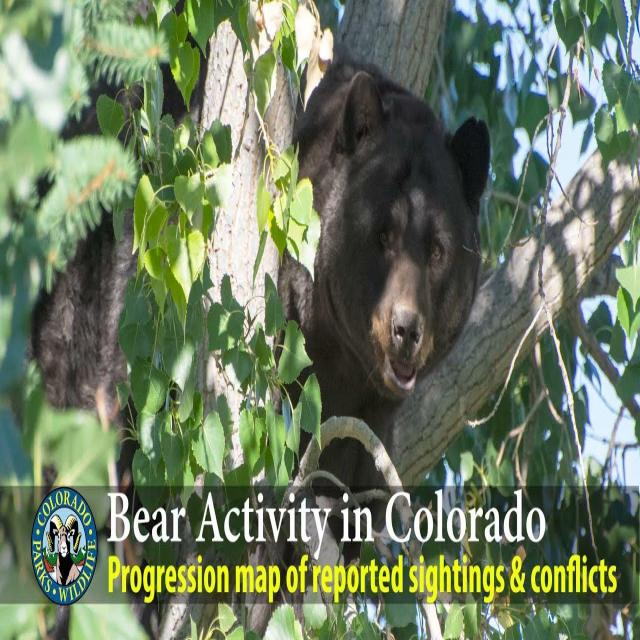Bear: (290, 57, 489, 491)
